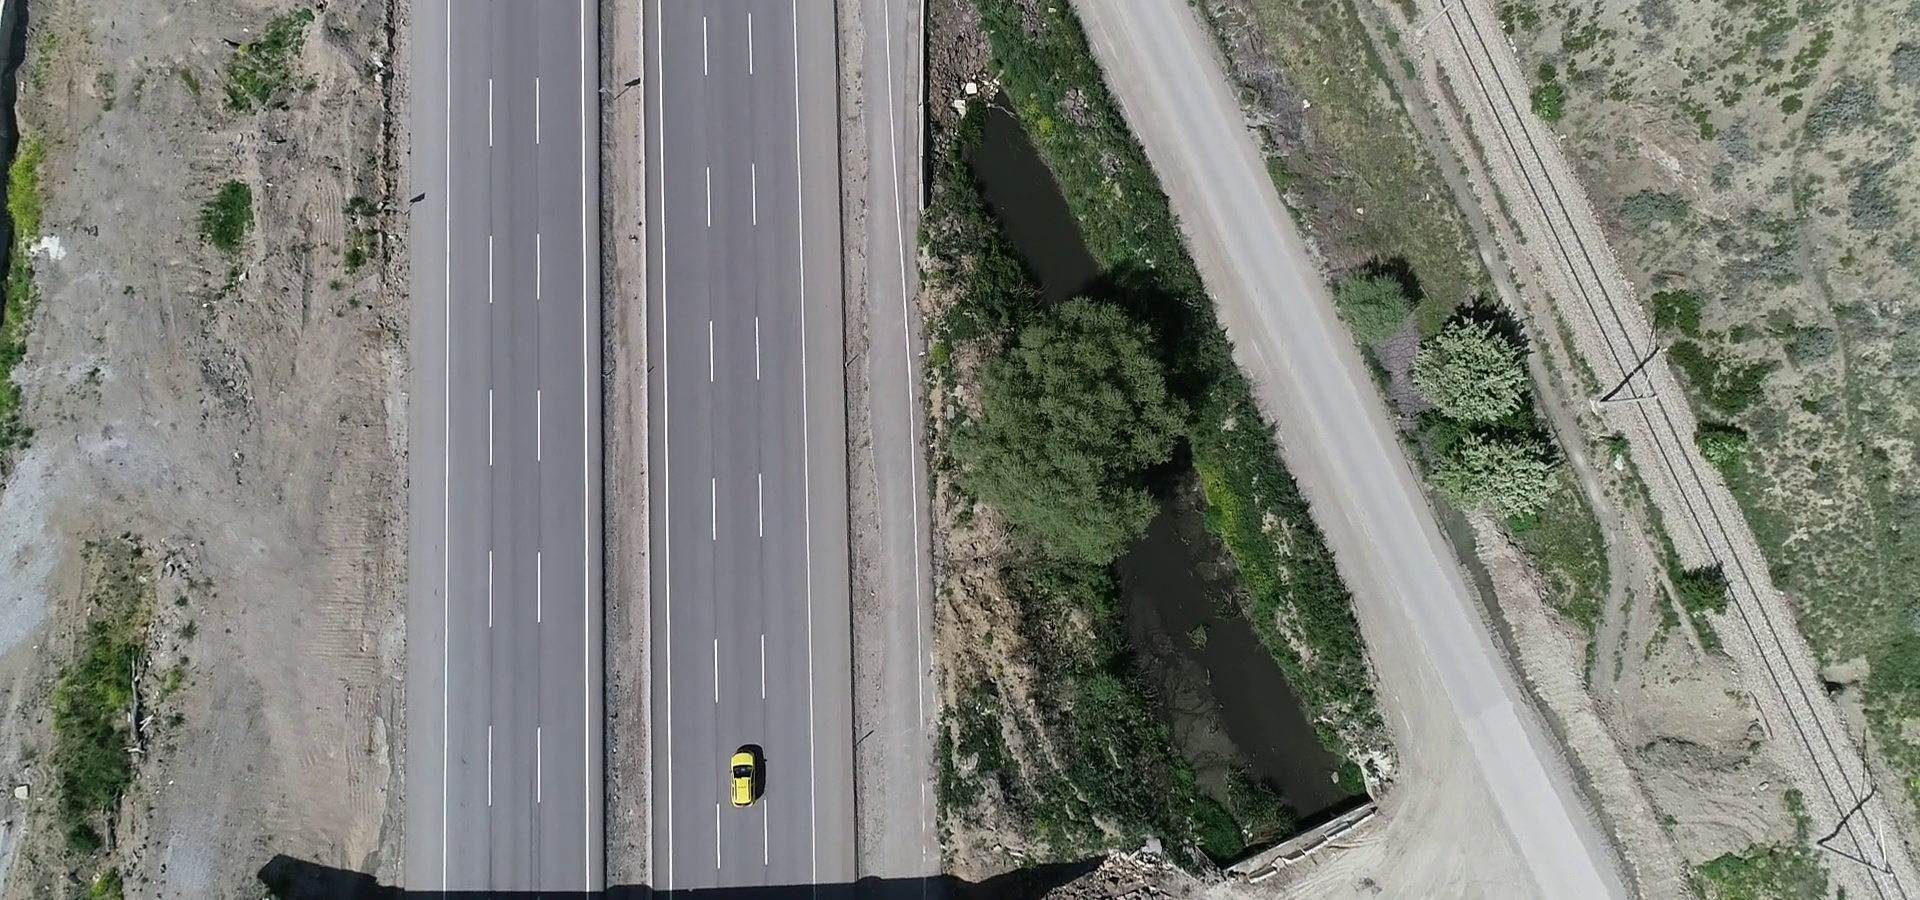araba: (719, 744, 767, 811)
